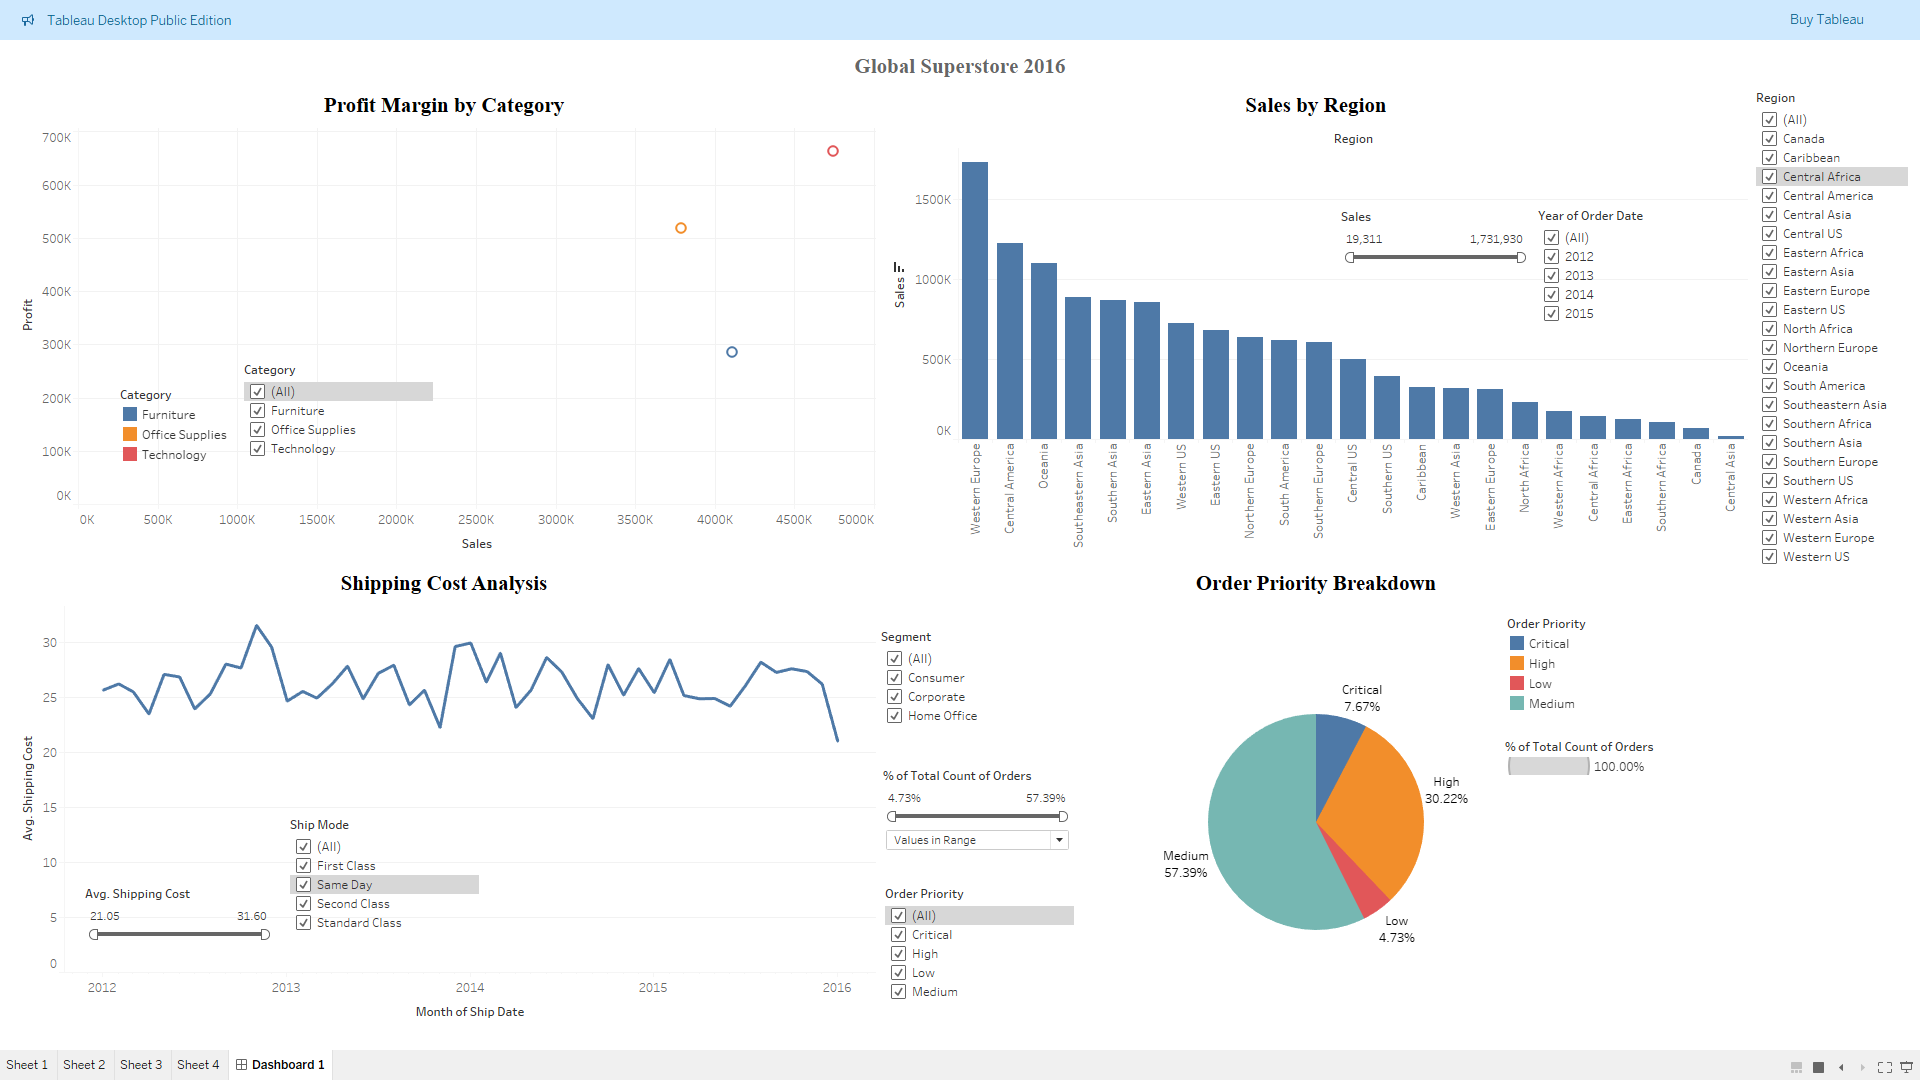

What the dashboard file says about the page in this screenshot:
{"tool":"tableau","page":{"name":"Dashboard 1","canvas":[1000,1000],"units":"permille","ordinal":0},"visuals":[{"type":"text","box":[4.7,9.3,990.6,36.8]},{"type":"worksheet","title":"Sheet 2","mark":"Automatic","rows":["Profit"],"cols":["Sales"],"box":[4.7,46.1,448.3,472.2]},{"type":"worksheet","title":"Sheet 1","mark":"Automatic","rows":["Sales"],"cols":["Region"],"box":[453,46.1,448.7,472.2]},{"type":"filter","title":"Sheet 1","param":"[federated.15vkgi20xua7bp12krxdm0fgqml6].[none:Region:nk]","box":[901.7,46.1,93.6,564.8]},{"type":"filter","title":"Sheet 1","param":"[federated.15vkgi20xua7bp12krxdm0fgqml6].[yr:Order Date:ok]","box":[801.1,165.5,98.3,147]},{"type":"filter","title":"Sheet 1","param":"[federated.15vkgi20xua7bp12krxdm0fgqml6].[sum:Sales:qk]","box":[698.6,166.7,98.3,79.9]},{"type":"filter","title":"Sheet 2","param":"[federated.15vkgi20xua7bp12krxdm0fgqml6].[none:Category:nk]","box":[127,318.3,98.3,125]},{"type":"legend","title":"Sheet 2","param":"[federated.15vkgi20xua7bp12krxdm0fgqml6].[none:Category:nk]","box":[62.6,342.6,81.9,90.3]},{"type":"worksheet","title":"Sheet 3","mark":"Automatic","rows":["Shipping Cost"],"cols":["Ship Date"],"box":[4.7,518.3,448.3,472.5]},{"type":"worksheet","title":"Sheet 4","mark":"Pie","box":[453,518.3,448.7,472.5]},{"type":"legend","title":"Sheet 4","param":"[federated.15vkgi20xua7bp12krxdm0fgqml6].[none:Order Priority:nk]","box":[784.7,569.4,81.9,113.4]},{"type":"filter","title":"Sheet 4","param":"[federated.15vkgi20xua7bp12krxdm0fgqml6].[none:Segment:nk]","box":[458.8,582.2,98.3,125]},{"type":"legend","title":"Sheet 4","param":"[federated.15vkgi20xua7bp12krxdm0fgqml6].[__tableau_internal_object_id__].[pcto:","box":[784.1,691,81.9,44]},{"type":"filter","title":"Sheet 4","param":"[federated.15vkgi20xua7bp12krxdm0fgqml6].[__tableau_internal_object_id__].[pcto:","box":[459.9,719.9,98.3,111.1]},{"type":"filter","title":"Sheet 3","param":"[federated.15vkgi20xua7bp12krxdm0fgqml6].[none:Ship Mode:nk]","box":[151,768.5,98.3,147]},{"type":"filter","title":"Sheet 3","param":"[federated.15vkgi20xua7bp12krxdm0fgqml6].[avg:Shipping Cost:qk]","box":[44.5,836.8,98.3,79.9]},{"type":"filter","title":"Sheet 4","param":"[federated.15vkgi20xua7bp12krxdm0fgqml6].[none:Order Priority:nk]","box":[461.1,836.8,98.3,147]}]}

Visuals, with their boxes on the dashboard's canvas, which has no fixed pixel size, in thousandths of its width and height (x1, y1, x2, y2). These are canvas units, not pixel positions in the 1920x1080 screenshot, which may show the page scaled, cropped or inside an application window:
text: locate(5, 9, 995, 46)
"Sheet 2" worksheet: locate(5, 46, 453, 518)
"Sheet 1" worksheet: locate(453, 46, 902, 518)
"Sheet 1" filter: locate(902, 46, 995, 611)
"Sheet 1" filter: locate(801, 166, 899, 312)
"Sheet 1" filter: locate(699, 167, 797, 247)
"Sheet 2" filter: locate(127, 318, 225, 443)
"Sheet 2" legend: locate(63, 343, 144, 433)
"Sheet 3" worksheet: locate(5, 518, 453, 991)
"Sheet 4" worksheet (Pie marks): locate(453, 518, 902, 991)
"Sheet 4" legend: locate(785, 569, 867, 683)
"Sheet 4" filter: locate(459, 582, 557, 707)
"Sheet 4" legend: locate(784, 691, 866, 735)
"Sheet 4" filter: locate(460, 720, 558, 831)
"Sheet 3" filter: locate(151, 768, 249, 916)
"Sheet 3" filter: locate(44, 837, 143, 917)
"Sheet 4" filter: locate(461, 837, 559, 984)
